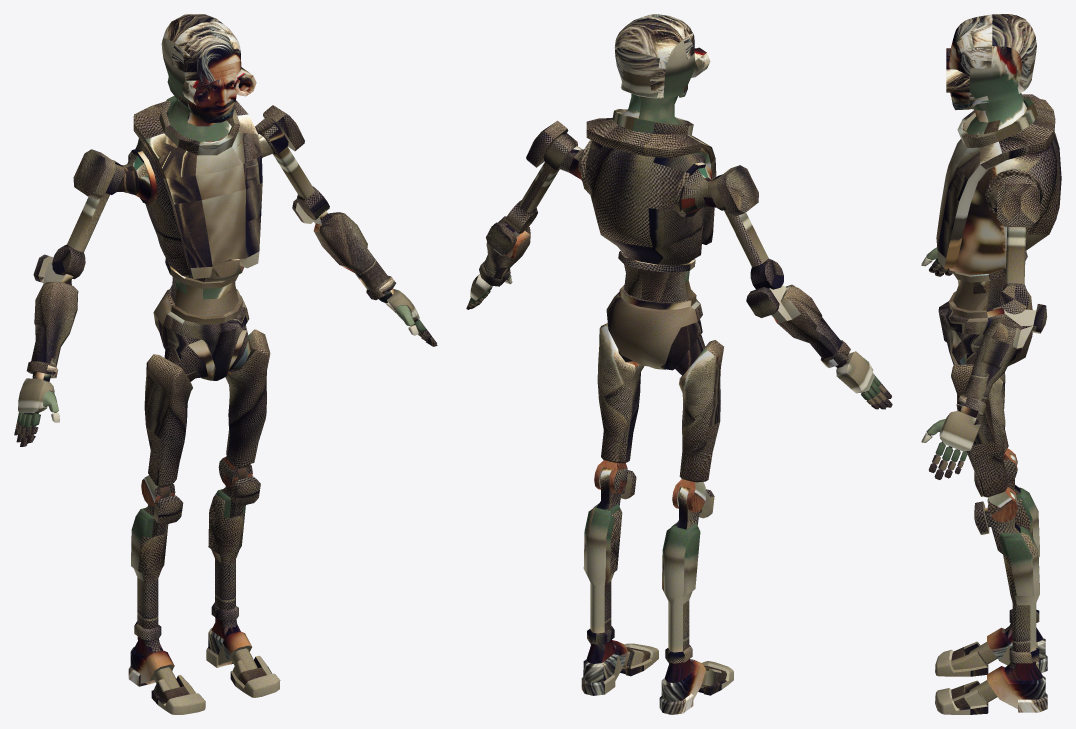
File: professor.obj
The picture shows the model from 3 angles, left to right: view 1: azimuth 30°, elevation 25°; view 2: azimuth 150°, elevation 25°; view 3: azimuth 270°, elevation 25°; orthographic projection.
Parts seen in each view (by area): view 1: RobotKile; view 2: RobotKile; view 3: RobotKile.
Boxes of the visible parts, x1,y1,x2,y2 form: RobotKile: [14, 14, 437, 714]; RobotKile: [466, 14, 892, 714]; RobotKile: [921, 14, 1061, 714].
Size of the model in its own units: 2.38 by 3.61 by 0.6853.
1 material, 1 textured.
